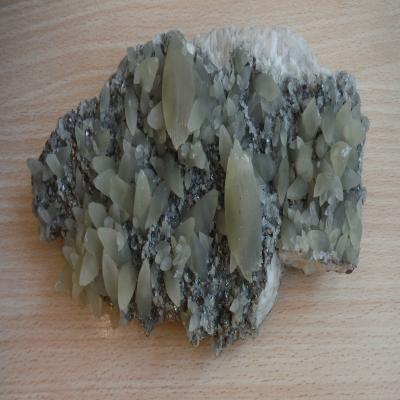mineralogy: (28, 29, 369, 355)
